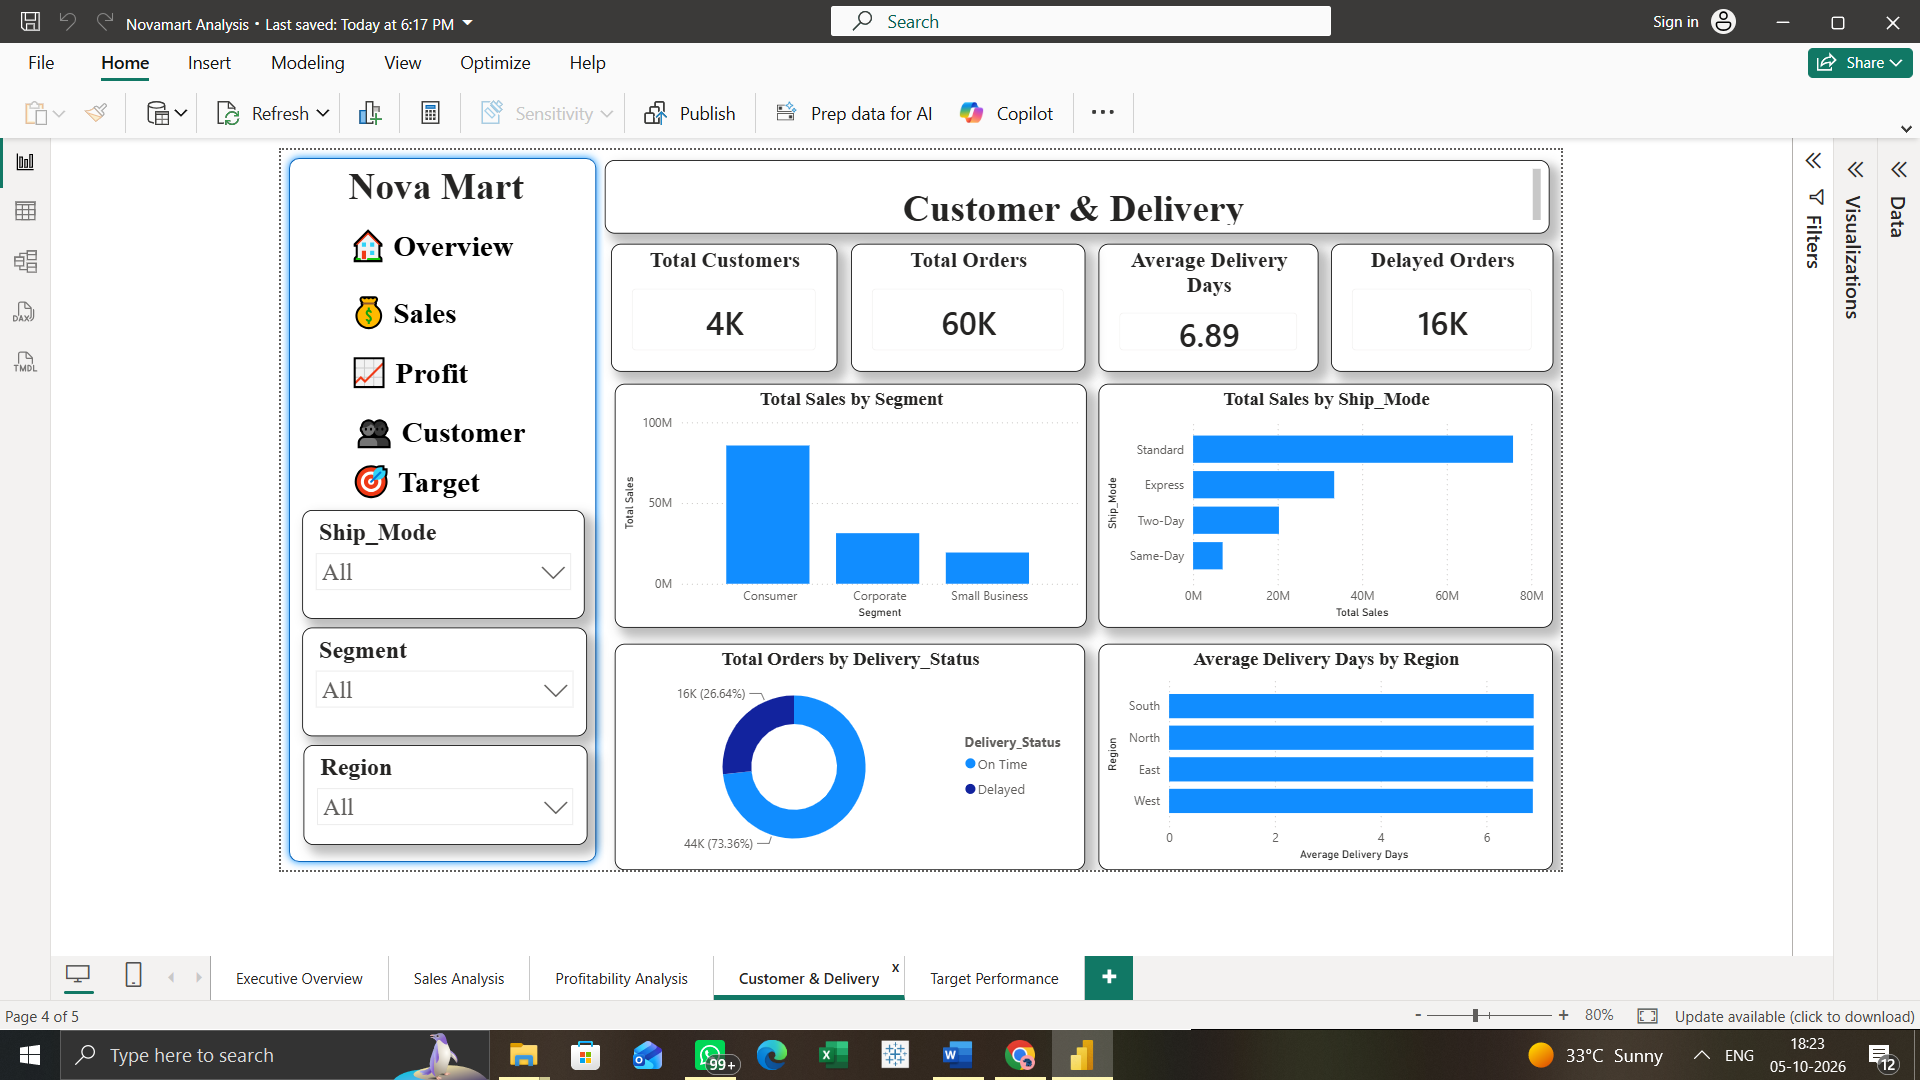

Layout of this report page (visuals, bound fields, positions):
{"tool":"powerbi","page":{"name":"Customer & Delivery","canvas":[1280,720],"ordinal":3},"visuals":[{"type":"group","id":"g1","title":"Group 1","box":[0,0,1268.8,720],"z":0},{"type":"textbox","box":[323.8,10,945,73.8],"z":0,"group":"g1"},{"type":"shape","box":[0,0,323.3,720],"z":1000,"group":"g1"},{"type":"slicer","fields":{"Values":["Shipping.Ship_Mode"]},"box":[21.2,360,282.5,108.8],"z":1000},{"type":"textbox","box":[62.9,10,200,65.7],"z":2000,"group":"g1"},{"type":"slicer","fields":{"Values":["Customers.Segment"]},"box":[21.2,477.5,285,108.8],"z":2000},{"type":"actionButton","box":[57.1,58.6,187.1,70],"z":3000,"group":"g1"},{"type":"slicer","fields":{"Values":["Geography.Region"]},"box":[22.5,595,283.8,100],"z":3000},{"type":"cardVisual","title":"Total Customers","fields":{"Data":["_Measures.Total Customers"]},"box":[330,94,226,128],"z":4000},{"type":"actionButton","box":[58.6,128.6,187.1,60],"z":4000,"group":"g1"},{"type":"cardVisual","title":"Average Delivery Days","fields":{"Data":["_Measures.Average Delivery Days"]},"box":[818,94,220,128],"z":5000},{"type":"actionButton","box":[42.9,188.6,171.4,62.9],"z":5000,"group":"g1"},{"type":"cardVisual","title":"Total Orders","fields":{"Data":["_Measures.Total Orders"]},"box":[570,94,234,128],"z":6000},{"type":"actionButton","box":[58.6,251.4,200,57.1],"z":6000,"group":"g1"},{"type":"cardVisual","title":"Delayed Orders","fields":{"Data":["_Measures.Delayed Orders"]},"box":[1050,94,222,128],"z":7000},{"type":"actionButton","box":[58.6,300,151.4,60],"z":7000,"group":"g1"},{"type":"clusteredColumnChart","fields":{"Category":["Customers.Segment"],"Y":["_Measures.Total Sales"]},"box":[334,234,472,244],"z":8000},{"type":"clusteredBarChart","fields":{"Category":["Shipping.Ship_Mode"],"Y":["_Measures.Total Sales"]},"box":[818,234,454,244],"z":9000},{"type":"donutChart","fields":{"Category":["Sales.Delivery_Status"],"Y":["_Measures.Total Orders"]},"box":[334,494,470,226],"z":10000},{"type":"clusteredBarChart","fields":{"Category":["Geography.Region"],"Y":["_Measures.Average Delivery Days"]},"box":[818,494,454,226],"z":11000}]}

Visuals, with their boxes on the page's 1280x720 design canvas (x1, y1, x2, y2). These are canvas units, not pixel positions in the 1920x1080 screenshot, which may show the page scaled, cropped or inside an application window:
"Group 1" group: [0,0,1269,720]
textbox: [324,10,1269,84]
shape: [0,0,323,720]
slicer - Shipping.Ship_Mode: [21,360,304,469]
textbox: [63,10,263,76]
slicer - Customers.Segment: [21,478,306,586]
actionButton: [57,59,244,129]
slicer - Geography.Region: [22,595,306,695]
"Total Customers" cardVisual: [330,94,556,222]
actionButton: [59,129,246,189]
"Average Delivery Days" cardVisual: [818,94,1038,222]
actionButton: [43,189,214,252]
"Total Orders" cardVisual: [570,94,804,222]
actionButton: [59,251,259,308]
"Delayed Orders" cardVisual: [1050,94,1272,222]
actionButton: [59,300,210,360]
clusteredColumnChart - Customers.Segment x _Measures.Total Sales: [334,234,806,478]
clusteredBarChart - Shipping.Ship_Mode x _Measures.Total Sales: [818,234,1272,478]
donutChart - Sales.Delivery_Status x _Measures.Total Orders: [334,494,804,720]
clusteredBarChart - Geography.Region x _Measures.Average Delivery Days: [818,494,1272,720]
